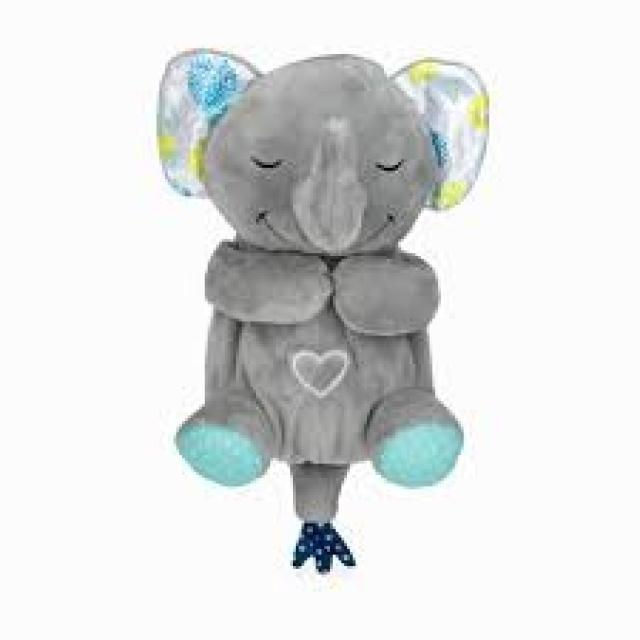soft-toy: (161, 52, 489, 572)
